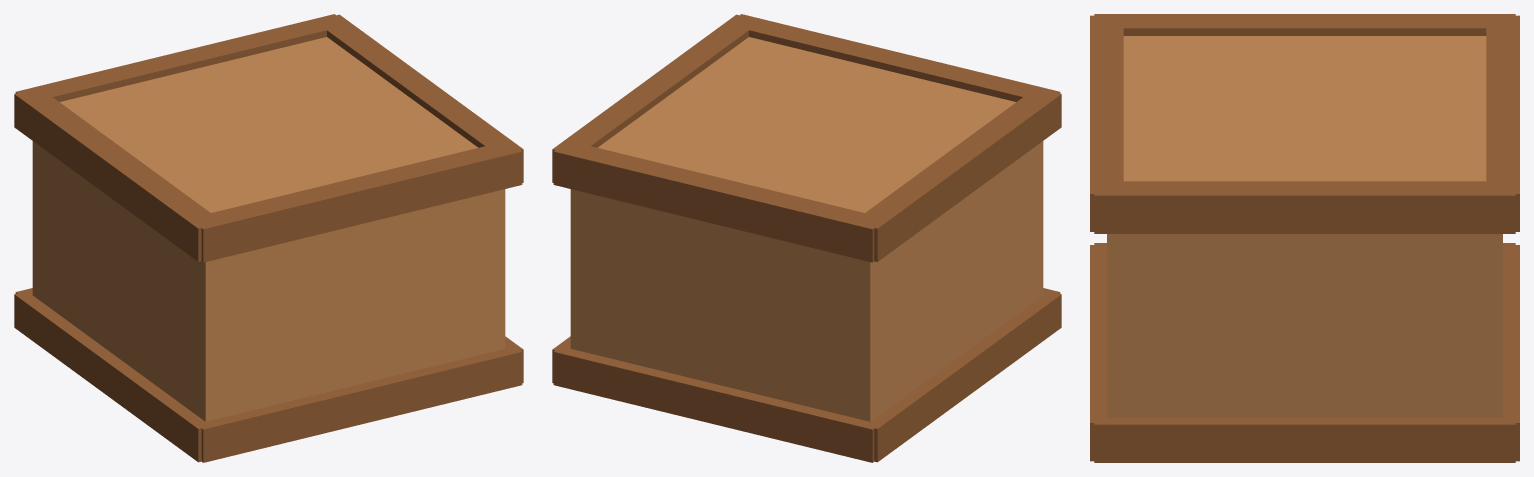
File: crate.glb
3 renders of one model, left to right at view 1: azimuth 30°, elevation 25°; view 2: azimuth 150°, elevation 25°; view 3: azimuth 270°, elevation 25°, orthographic. The views are drawn at different scales.
Parts seen in each view (by area): view 1: crate; view 2: crate; view 3: crate.
Boxes of the visible parts, x1,y1,x2,y2 form: crate: [14, 14, 523, 462]; crate: [552, 14, 1061, 462]; crate: [1090, 14, 1519, 462].
Size of the model in its own units: 0.612 by 0.42 by 0.612.
